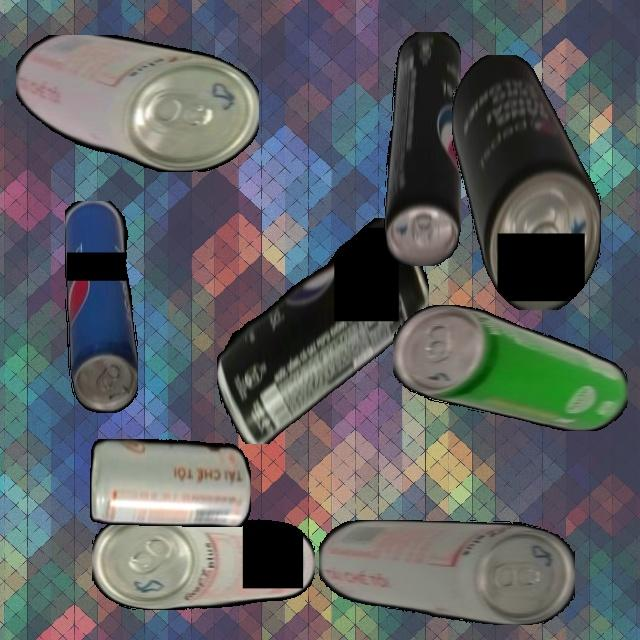debris: (216, 217, 429, 444), (451, 54, 601, 310), (15, 35, 259, 172), (393, 304, 628, 431), (318, 520, 575, 625), (92, 512, 315, 610), (383, 31, 461, 266), (64, 200, 138, 413), (89, 438, 251, 527)
